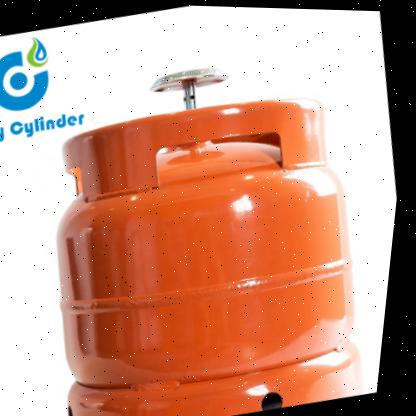gas-tank: (0, 58, 411, 415)
